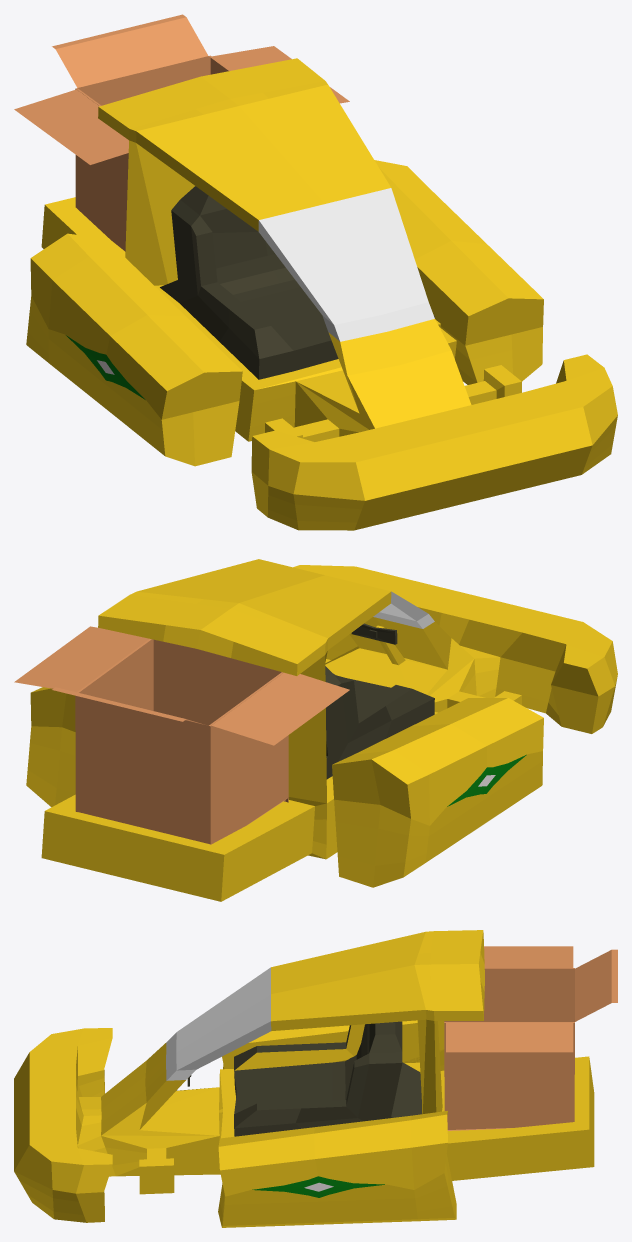
The model's file is carroCaixa.fbx.
The picture shows the model from 3 angles, top to bottom: view 1: azimuth 30°, elevation 25°; view 2: azimuth 150°, elevation 25°; view 3: azimuth 270°, elevation 25°; orthographic projection. The views are drawn at different scales.
Visible parts, largest first — view 1: Cube; view 2: Cube; view 3: Cube.
Part boxes in pixels (bbox=[...]): Cube: bbox=[14, 14, 617, 530]; Cube: bbox=[14, 559, 617, 901]; Cube: bbox=[14, 930, 617, 1227].
Bounding box in the file's own units: 156 × 93.2 × 256.
